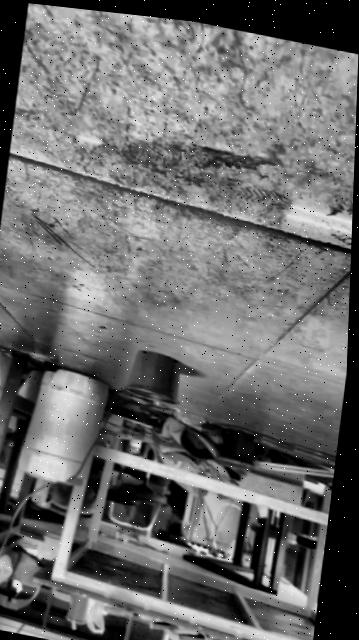pot: (116, 346, 185, 408)
